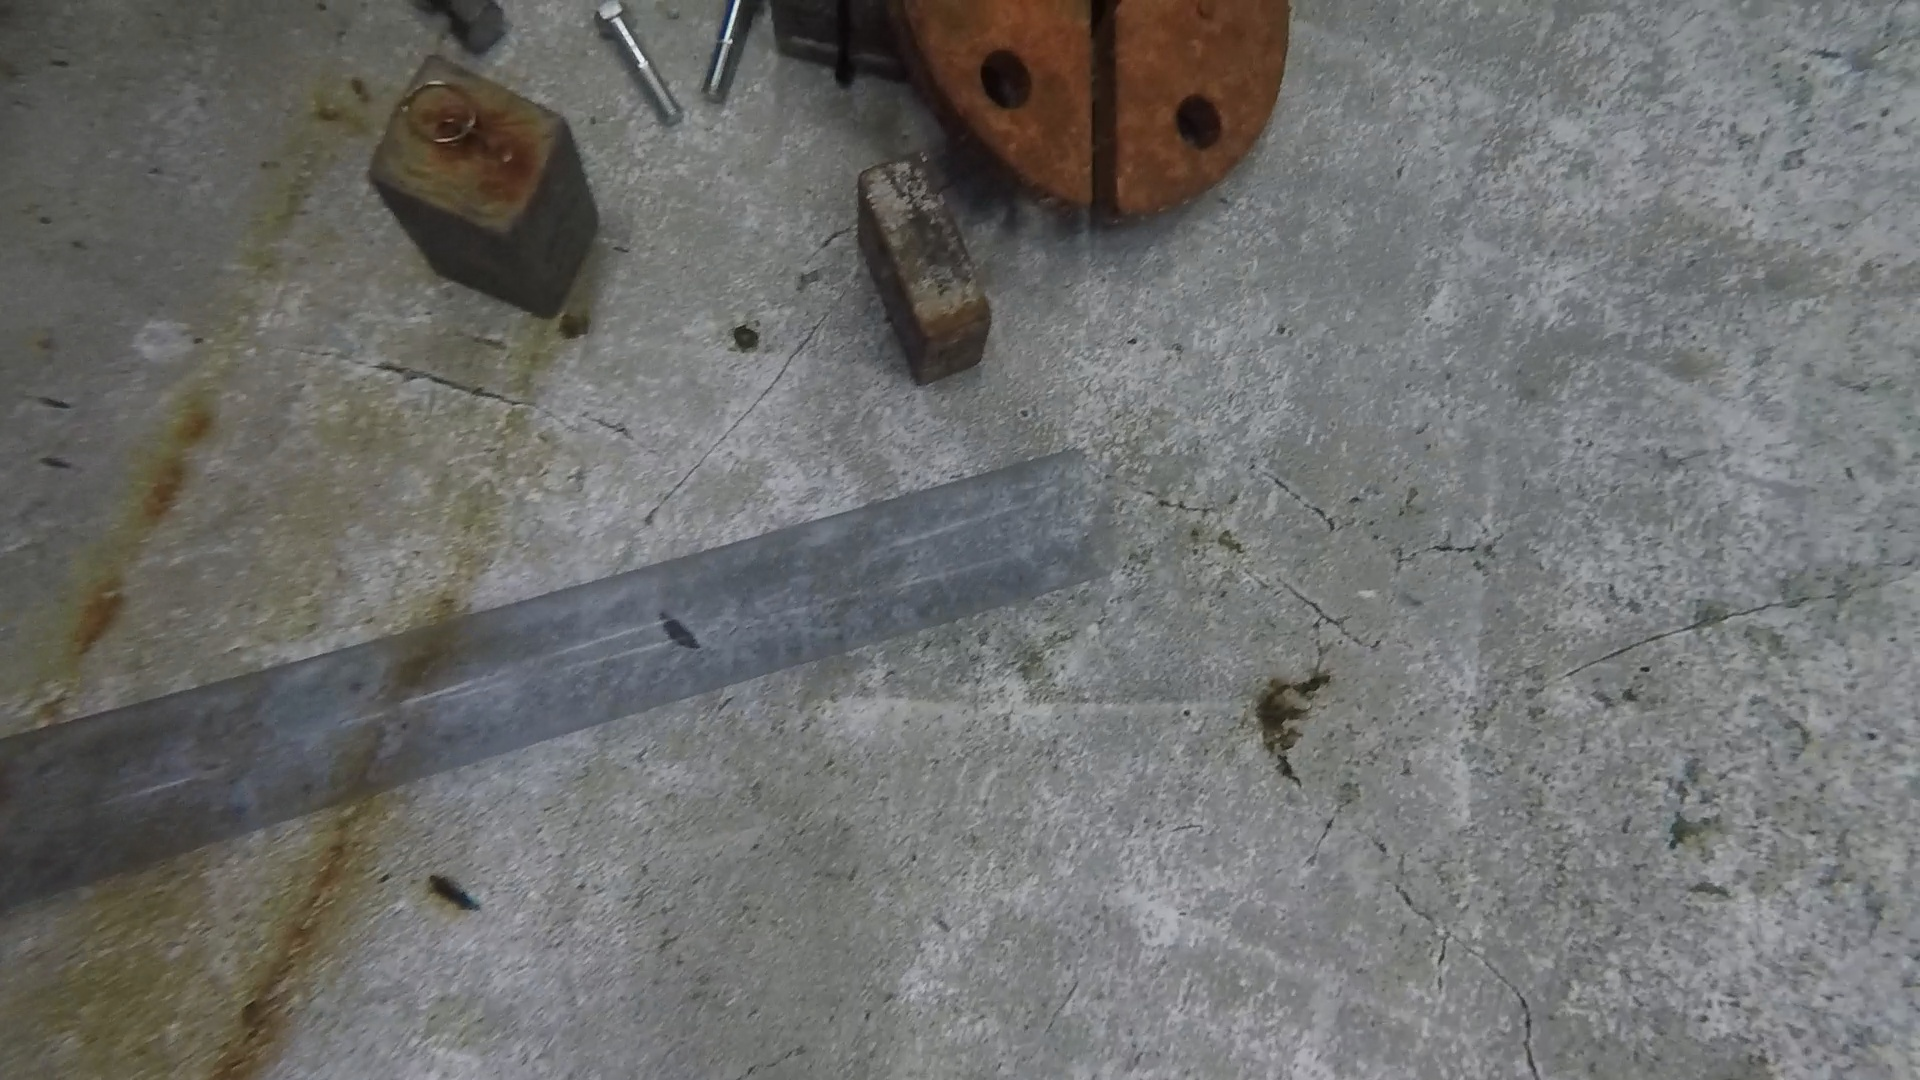bolt: (595, 1, 684, 127), (702, 1, 752, 105), (413, 1, 504, 55)
flange: (886, 1, 1288, 224)
led_block: (365, 54, 600, 318), (855, 152, 990, 386), (769, 1, 903, 94)
pipe: (1, 451, 1116, 909)
